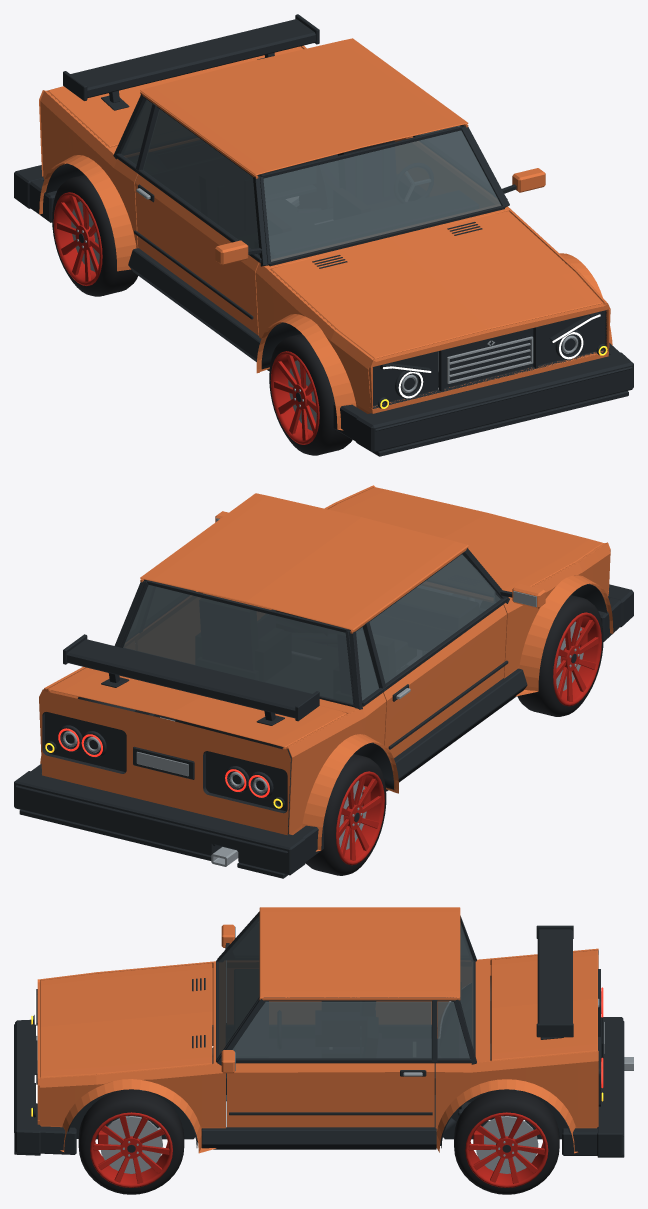
File: bulancia-r002.glb
The picture shows the model from 3 angles, top to bottom: view 1: azimuth 30°, elevation 25°; view 2: azimuth 150°, elevation 25°; view 3: azimuth 270°, elevation 25°; orthographic projection. The views are drawn at different scales.
Visible parts, largest first — view 1: hood.paint, roof.paint, windshield.glass.001, front-bumper.dark, right-door.paint, right-window.glass, spoiler.dark, front-grille.dark, right-rear-quarter.paint, right-front-fender.paint, front-grille.paint, right-sill.dark (+18 smaller); view 2: roof.paint, rear-window.glass.001, rear-panel.paint, rear-bumper.dark, hood.paint, right-door.paint, right-window.glass, spoiler.dark, trunk.paint, right-rear-quarter.paint, rear-panel.dark, right-front-fender.paint (+14 smaller); view 3: roof.paint, hood.paint, left-door.paint, left-window.glass, left-rear-quarter.paint, trunk.paint, left-front-fender.paint, left-sill.dark, rear-bumper.dark, wheel:0.rubber, front-bumper.dark, wheel:2.rubber (+19 smaller).
Part boxes in pixels (x1,y1,x2,y2): hood.paint: [271, 211, 602, 359]; roof.paint: [140, 38, 468, 178]; windshield.glass.001: [263, 130, 501, 261]; front-bumper.dark: [333, 343, 633, 456]; right-door.paint: [135, 174, 259, 335]; right-window.glass: [143, 109, 259, 255]; spoiler.dark: [63, 14, 319, 110]; front-grille.dark: [373, 310, 608, 408]; right-rear-quarter.paint: [39, 90, 138, 271]; right-front-fender.paint: [255, 263, 373, 430]; front-grille.paint: [368, 302, 610, 413]; right-sill.dark: [128, 248, 269, 371]; roof.paint: [140, 493, 468, 633]; rear-window.glass.001: [123, 584, 353, 703]; rear-panel.paint: [39, 689, 290, 835]; rear-bumper.dark: [14, 763, 323, 878]; hood.paint: [328, 487, 602, 598]; right-door.paint: [383, 604, 506, 757]; right-window.glass: [369, 554, 500, 683]; spoiler.dark: [63, 634, 319, 725]; trunk.paint: [48, 667, 346, 749]; right-rear-quarter.paint: [286, 693, 398, 851]; rear-panel.dark: [42, 712, 290, 813]; right-front-fender.paint: [503, 543, 613, 696]; roof.paint: [259, 907, 460, 1000]; hood.paint: [40, 963, 212, 1077]; left-door.paint: [227, 1063, 434, 1127]; left-window.glass: [232, 1001, 431, 1058]; left-rear-quarter.paint: [435, 1051, 598, 1153]; trunk.paint: [491, 950, 598, 1060]; left-front-fender.paint: [40, 1063, 225, 1153]; left-sill.dark: [201, 1127, 436, 1149]; rear-bumper.dark: [562, 1017, 624, 1157]; wheel:0.rubber: [78, 1089, 184, 1194]; front-bumper.dark: [14, 1019, 76, 1155]; wheel:2.rubber: [454, 1089, 559, 1194].
Bounding box in the file's own units: 2.21 × 1.42 × 4.23.
